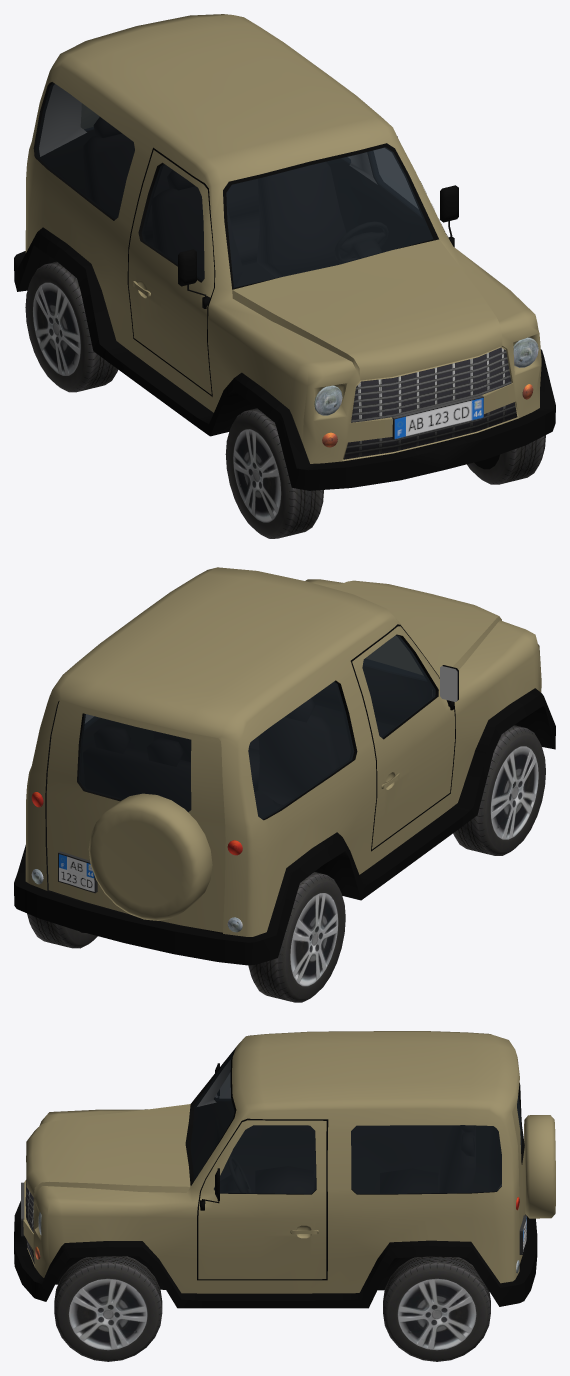
3 renders of one model, top to bottom at view 1: azimuth 30°, elevation 25°; view 2: azimuth 150°, elevation 25°; view 3: azimuth 270°, elevation 25°, orthographic. The views are drawn at different scales.
Visible parts, largest first — view 1: Car_Cube.001, GlassExt_Cube.005, Seating_Cube.002, wheels_Cylinder, InteriorCar_Cube.003, LicensePlate_Cube.012, GlassInt_Cube.006, Rearview_Cube.004, SteeringWheel_Torus, Plane; view 2: Car_Cube.001, GlassExt_Cube.005, wheels_Cylinder, Seating_Cube.002, BackWheel_Cylinder.001, InteriorCar_Cube.003, GlassInt_Cube.006, LicensePlate_Cube.012, Plane, sweethome3d_window_mirror_Cube.007; view 3: Car_Cube.001, GlassExt_Cube.005, wheels_Cylinder, InteriorCar_Cube.003, Seating_Cube.002, BackWheel_Cylinder.001, Plane, SteeringWheel_Torus, LicensePlate_Cube.012.
Part boxes in pixels (x1,y1,x2,y2): Car_Cube.001: (14,14,555,490); GlassExt_Cube.005: (36,83,432,287); Seating_Cube.002: (83,117,348,287); wheels_Cylinder: (25,261,545,538); InteriorCar_Cube.003: (36,83,432,287); LicensePlate_Cube.012: (392,395,483,439); GlassInt_Cube.006: (81,104,421,217); Rearview_Cube.004: (178,185,458,308); SteeringWheel_Torus: (334,221,388,262); Plane: (127,136,454,396); Car_Cube.001: (14,567,555,965); GlassExt_Cube.005: (79,635,435,819); wheels_Cylinder: (27,725,545,1002); Seating_Cube.002: (83,698,340,811); BackWheel_Cylinder.001: (88,793,212,920); InteriorCar_Cube.003: (79,635,435,819); GlassInt_Cube.006: (84,636,426,729); LicensePlate_Cube.012: (58,851,97,893); Plane: (350,624,455,851); sweethome3d_window_mirror_Cube.007: (440,666,457,701); Car_Cube.001: (14,1031,537,1308); GlassExt_Cube.005: (190,1050,521,1194); wheels_Cylinder: (54,1256,490,1361); InteriorCar_Cube.003: (190,1050,521,1194); Seating_Cube.002: (255,1125,475,1193); BackWheel_Cylinder.001: (524,1115,555,1218); Plane: (197,1118,328,1280); SteeringWheel_Torus: (220,1156,251,1192); LicensePlate_Cube.012: (21,1182,526,1254).
Size of the model in its own units: 186 by 194 by 382.
